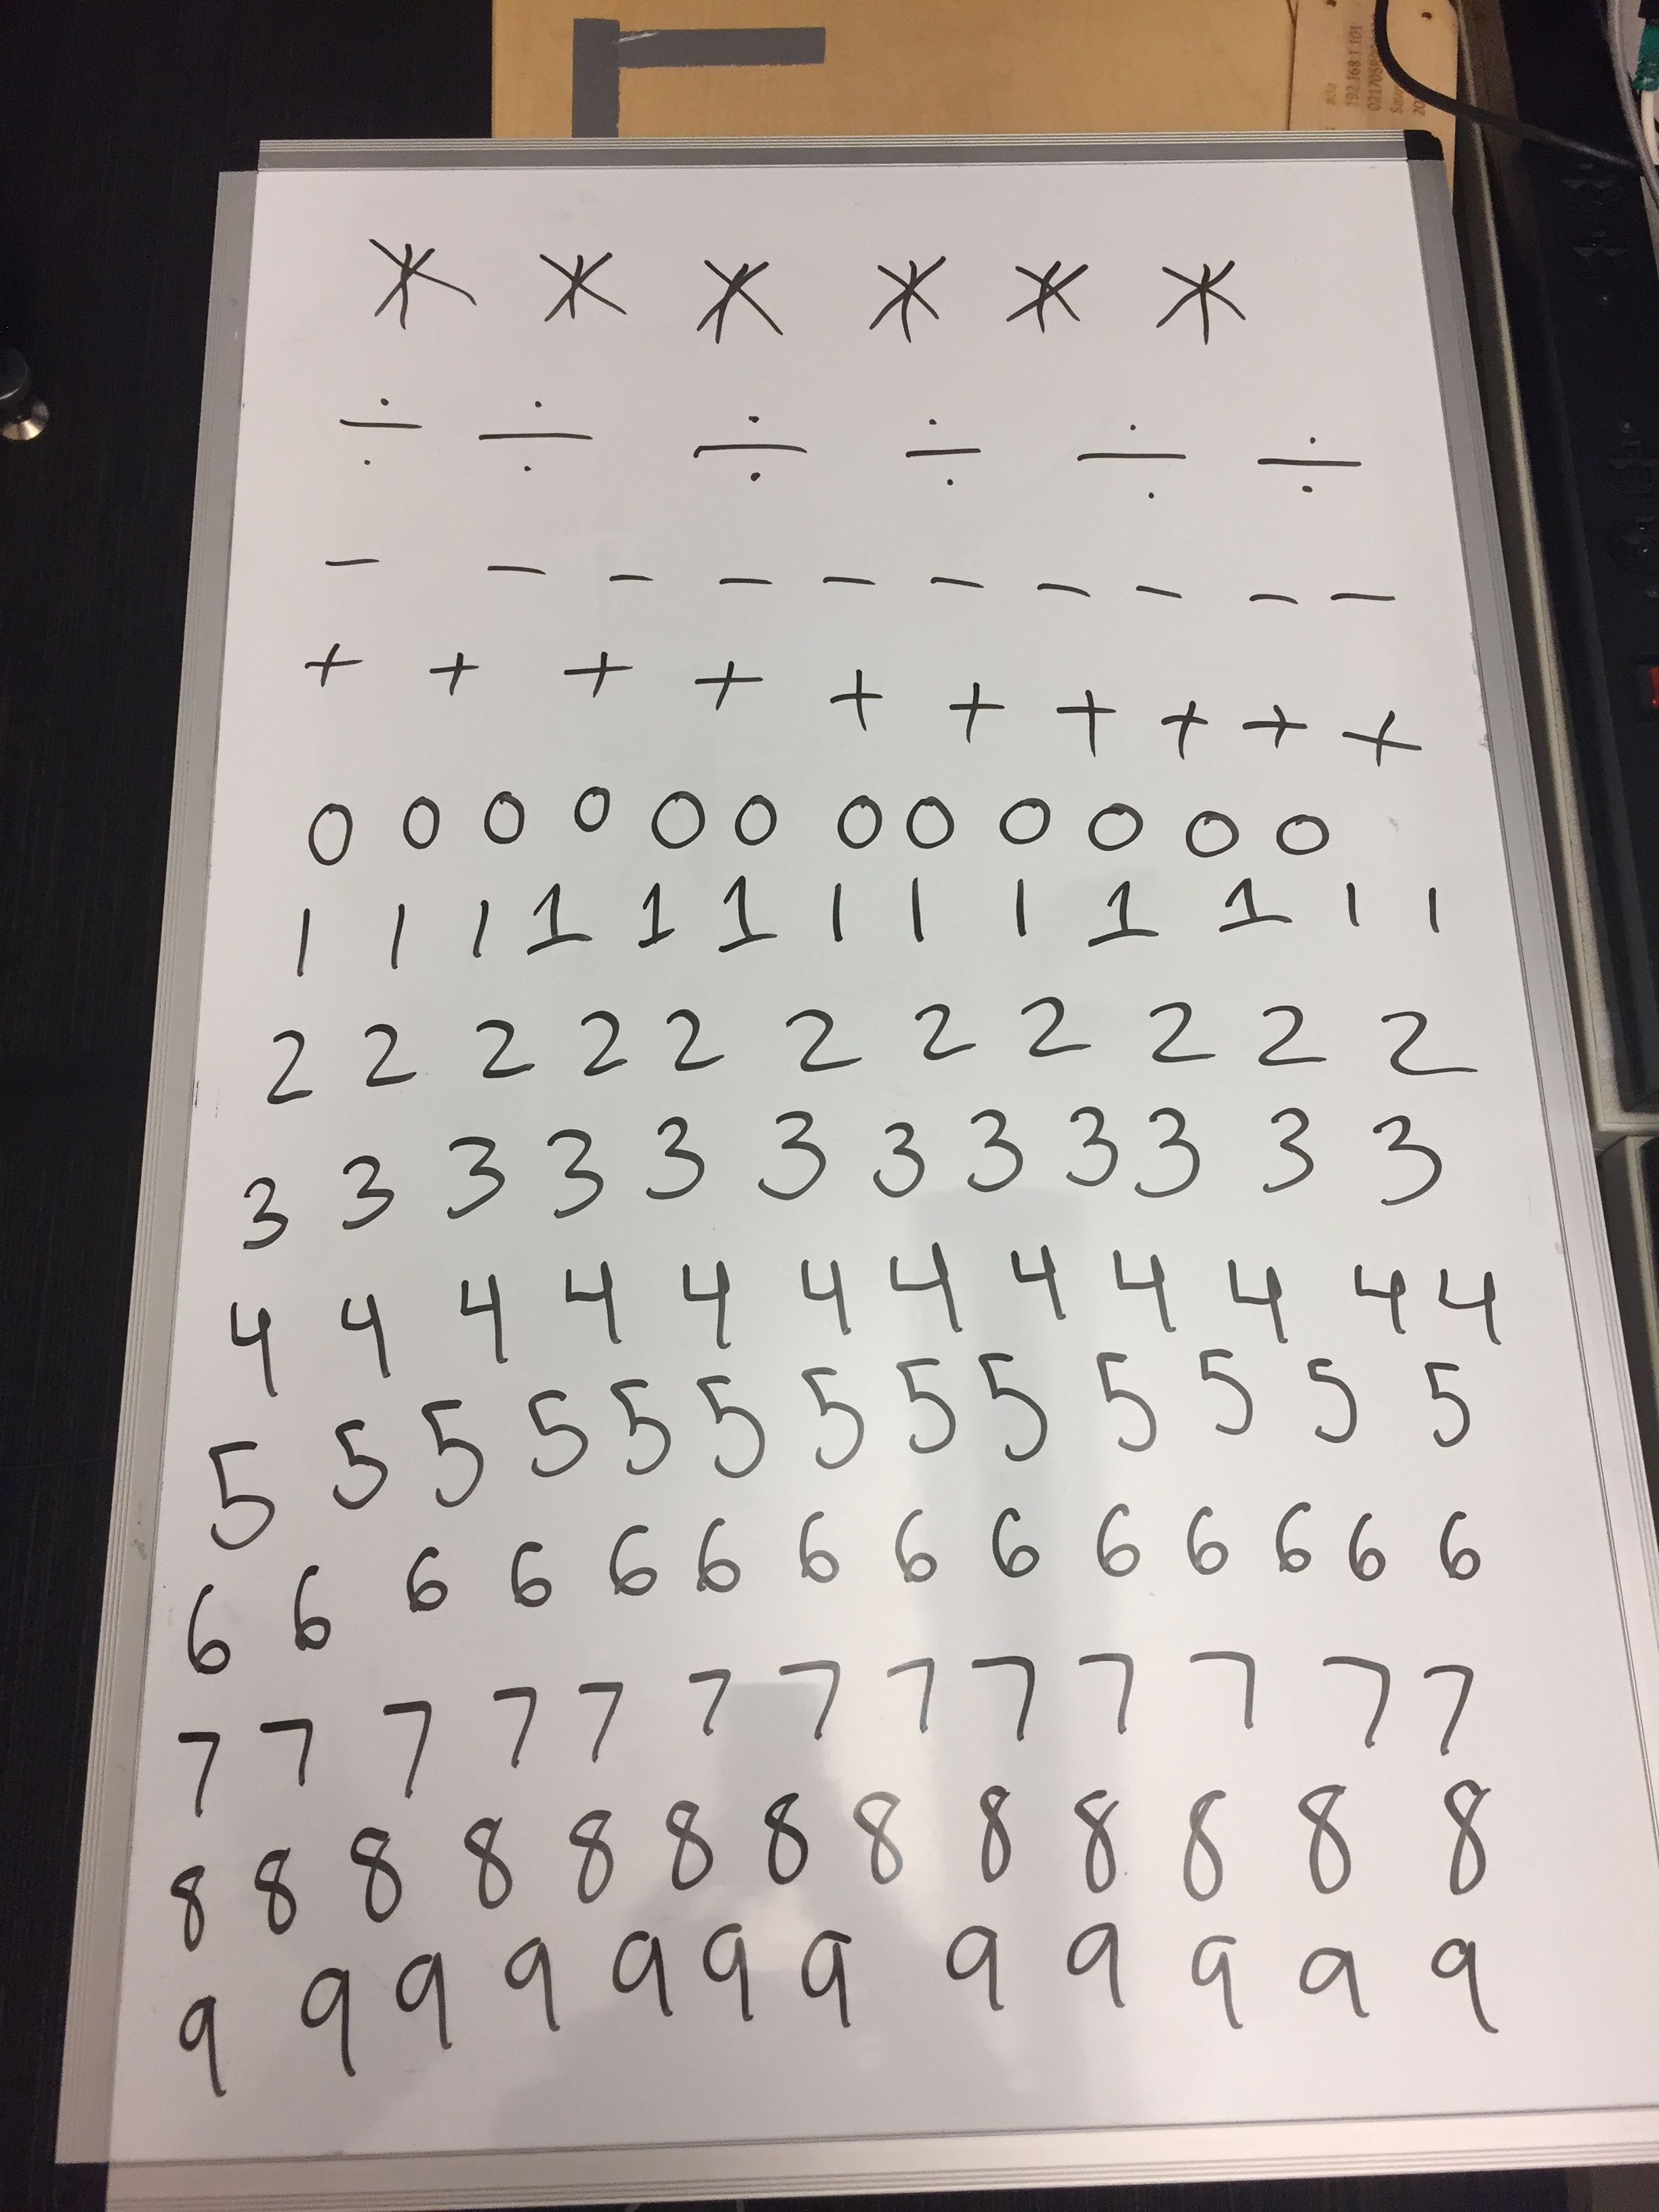+: (1229, 679, 1328, 773), (680, 632, 772, 730), (270, 622, 382, 702), (1335, 693, 1432, 784), (545, 629, 647, 716), (1042, 676, 1134, 766), (931, 662, 1016, 758), (1141, 683, 1227, 773), (805, 655, 897, 737), (413, 629, 495, 709)
-: (1310, 561, 1408, 648), (1117, 564, 1206, 641), (464, 543, 565, 608), (809, 543, 890, 622), (1019, 554, 1105, 629), (915, 547, 995, 625), (593, 547, 680, 618), (305, 526, 396, 594), (1232, 561, 1310, 636), (701, 547, 786, 611)
0: (545, 754, 629, 880), (378, 766, 464, 887), (284, 784, 378, 887), (467, 761, 545, 880), (636, 773, 718, 869), (1267, 787, 1349, 883), (812, 773, 890, 869), (721, 770, 796, 866), (979, 777, 1056, 866), (1073, 791, 1152, 873), (1171, 787, 1249, 869), (897, 784, 962, 866)
1: (1199, 859, 1307, 967), (256, 887, 345, 991), (511, 876, 606, 970), (704, 859, 786, 967), (1077, 866, 1164, 960), (366, 887, 427, 991), (1406, 859, 1467, 963), (626, 866, 687, 967), (988, 862, 1049, 963), (1321, 859, 1389, 948), (809, 869, 866, 970), (450, 883, 507, 977), (897, 866, 945, 963)
2: (1364, 988, 1490, 1092), (765, 981, 877, 1096), (453, 998, 552, 1103), (335, 1001, 430, 1109), (247, 1012, 335, 1120), (647, 984, 735, 1089), (897, 984, 992, 1078), (1006, 977, 1101, 1069), (558, 988, 640, 1096), (1246, 991, 1342, 1082), (1134, 988, 1229, 1078)
3: (1351, 1092, 1453, 1224), (1124, 1085, 1213, 1221), (1243, 1082, 1328, 1214), (636, 1092, 718, 1228), (430, 1113, 518, 1238), (1046, 1082, 1127, 1214), (854, 1103, 945, 1217), (748, 1096, 833, 1217), (535, 1113, 613, 1238), (220, 1160, 308, 1264), (324, 1139, 406, 1249), (958, 1092, 1030, 1214)
4: (866, 1231, 992, 1343), (1087, 1224, 1202, 1343), (427, 1256, 532, 1381), (983, 1211, 1087, 1332), (535, 1242, 640, 1360), (1419, 1238, 1528, 1350), (664, 1245, 769, 1360), (213, 1296, 308, 1411), (1209, 1242, 1307, 1350), (324, 1278, 413, 1390), (779, 1242, 873, 1346), (1324, 1249, 1425, 1343)
5: (772, 1350, 877, 1510), (179, 1418, 291, 1564), (958, 1332, 1070, 1479), (1066, 1332, 1175, 1479), (497, 1367, 599, 1512), (298, 1390, 399, 1529), (687, 1357, 775, 1510), (403, 1378, 497, 1519), (593, 1364, 683, 1507), (880, 1339, 972, 1479), (1406, 1346, 1486, 1465), (1290, 1339, 1371, 1454), (1192, 1332, 1267, 1451)
6: (166, 1564, 247, 1696), (270, 1540, 345, 1672), (972, 1486, 1060, 1594), (392, 1522, 471, 1641), (880, 1482, 955, 1604), (495, 1512, 572, 1629), (1425, 1496, 1504, 1597), (683, 1507, 758, 1611), (1256, 1479, 1328, 1587), (782, 1503, 863, 1597), (1084, 1486, 1155, 1590), (596, 1515, 671, 1615), (1178, 1489, 1243, 1590), (1335, 1503, 1399, 1597)
7: (1297, 1629, 1403, 1763), (965, 1632, 1056, 1754), (772, 1637, 861, 1759), (1175, 1637, 1277, 1740), (1063, 1637, 1155, 1747), (366, 1689, 450, 1808), (251, 1698, 338, 1801), (873, 1637, 951, 1750), (159, 1716, 237, 1827), (1419, 1641, 1486, 1759), (565, 1665, 636, 1777), (481, 1669, 549, 1784), (674, 1651, 748, 1750)
8: (739, 1759, 826, 1909), (643, 1770, 735, 1905), (1060, 1770, 1141, 1912), (1164, 1766, 1246, 1909), (446, 1791, 532, 1926), (335, 1801, 416, 1937), (240, 1827, 328, 1952), (843, 1759, 918, 1902), (1286, 1766, 1364, 1902), (958, 1759, 1030, 1898), (554, 1780, 629, 1912), (148, 1848, 230, 1966), (1432, 1766, 1500, 1905)
9: (159, 1980, 256, 2120), (924, 1909, 1023, 2041), (1284, 1919, 1385, 2048), (1422, 1912, 1518, 2048), (288, 1952, 373, 2095), (378, 1940, 471, 2069), (779, 1912, 870, 2041), (491, 1919, 579, 2052), (690, 1902, 772, 2041), (596, 1916, 687, 2038), (1175, 1919, 1256, 2048), (1056, 1912, 1145, 2031)
div: (446, 371, 619, 519), (1056, 394, 1206, 529), (671, 388, 829, 510), (301, 374, 432, 496), (1249, 408, 1378, 523), (884, 388, 1002, 507)
x: (324, 202, 491, 368), (1127, 218, 1277, 381), (511, 211, 643, 354), (983, 228, 1107, 371), (676, 225, 798, 368), (861, 228, 972, 368)
